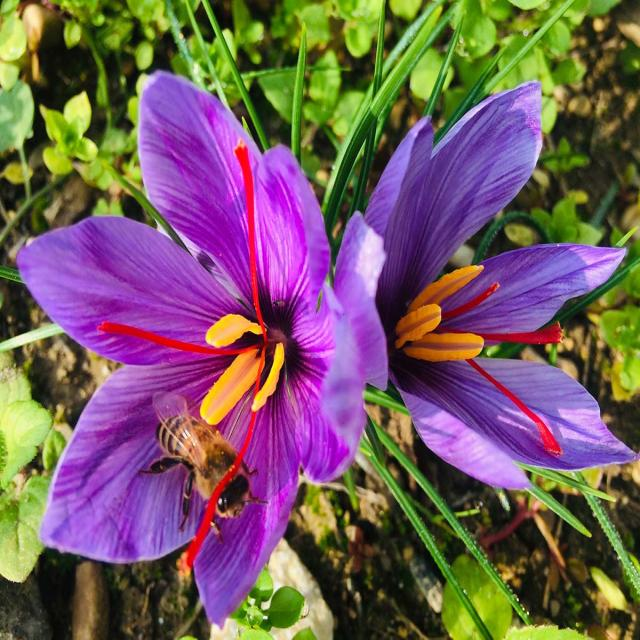saffron open: (19, 73, 386, 623), (365, 83, 635, 488)
